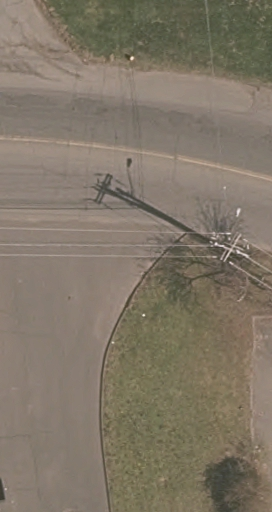DT: (205, 209, 257, 277)
